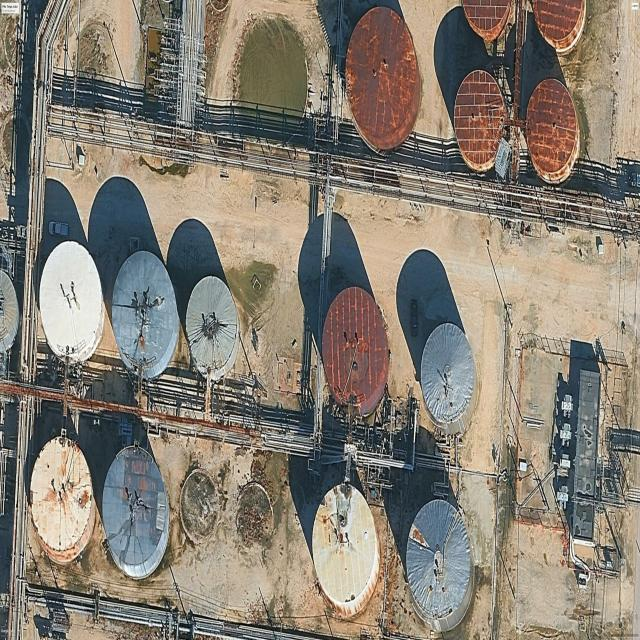Oil Rafinery: (345, 6, 421, 151), (405, 499, 474, 631), (312, 484, 380, 617), (102, 446, 169, 579), (112, 250, 180, 380), (322, 286, 389, 416), (30, 436, 96, 564), (39, 241, 105, 364), (420, 323, 477, 435), (525, 78, 579, 183), (453, 69, 506, 173), (186, 276, 239, 379), (532, 0, 586, 54), (462, 0, 512, 42)
